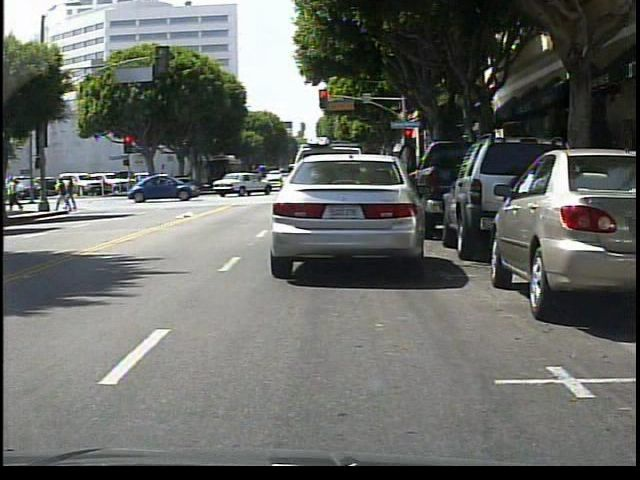person: (58, 177, 80, 212), (9, 179, 23, 213)
